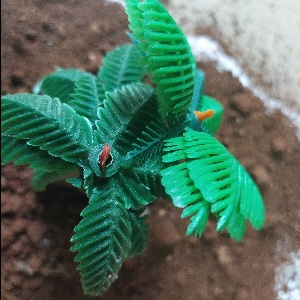plant: (6, 8, 257, 278)
